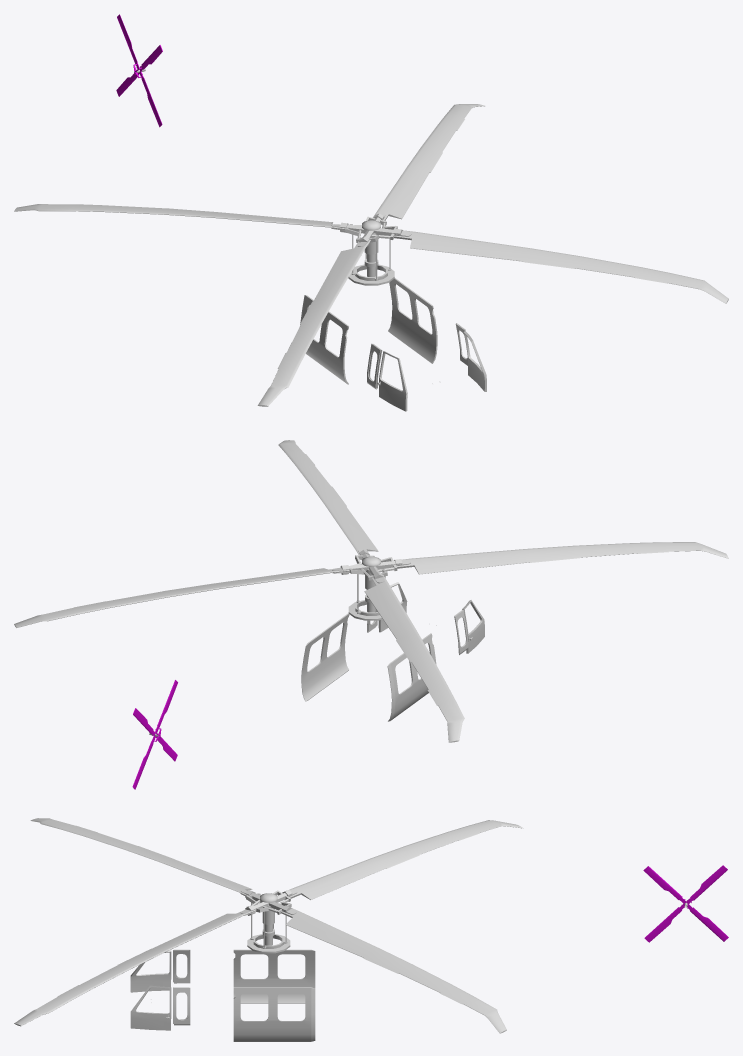
File: MilitaryHelicopterOverigeTexture.fbx
3 renders of one model, top to bottom at view 1: azimuth 30°, elevation 25°; view 2: azimuth 150°, elevation 25°; view 3: azimuth 270°, elevation 25°, orthographic. The views are drawn at different scales.
Visible parts, largest first — view 1: WiekenEtc, AchterDeuren, Voordeuren, TopPart, Tail Wieken; view 2: WiekenEtc, AchterDeuren, Voordeuren, Tail Wieken, TopPart; view 3: WiekenEtc, AchterDeuren, Voordeuren, Tail Wieken, TopPart.
Boxes of the visible parts, <box> form: WiekenEtc: <box>14,104,728,406</box>; AchterDeuren: <box>300,278,437,384</box>; Voordeuren: <box>367,323,486,411</box>; TopPart: <box>348,220,394,285</box>; Tail Wieken: <box>116,14,162,127</box>; WiekenEtc: <box>14,440,728,742</box>; AchterDeuren: <box>301,613,436,721</box>; Voordeuren: <box>367,582,484,654</box>; Tail Wieken: <box>132,680,177,789</box>; TopPart: <box>348,556,382,620</box>; WiekenEtc: <box>14,818,523,1033</box>; AchterDeuren: <box>233,949,315,1041</box>; Voordeuren: <box>130,949,190,1030</box>; Tail Wieken: <box>643,865,728,942</box>; TopPart: <box>247,893,290,953</box>.
Size of the model in its own units: 1586 by 532 by 2225.
